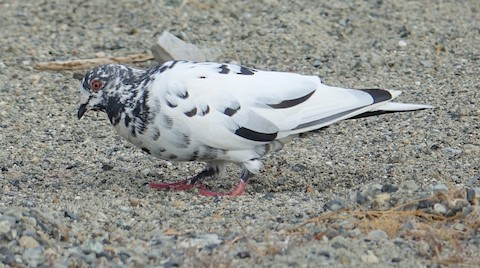pigeon: (75, 58, 443, 201)
